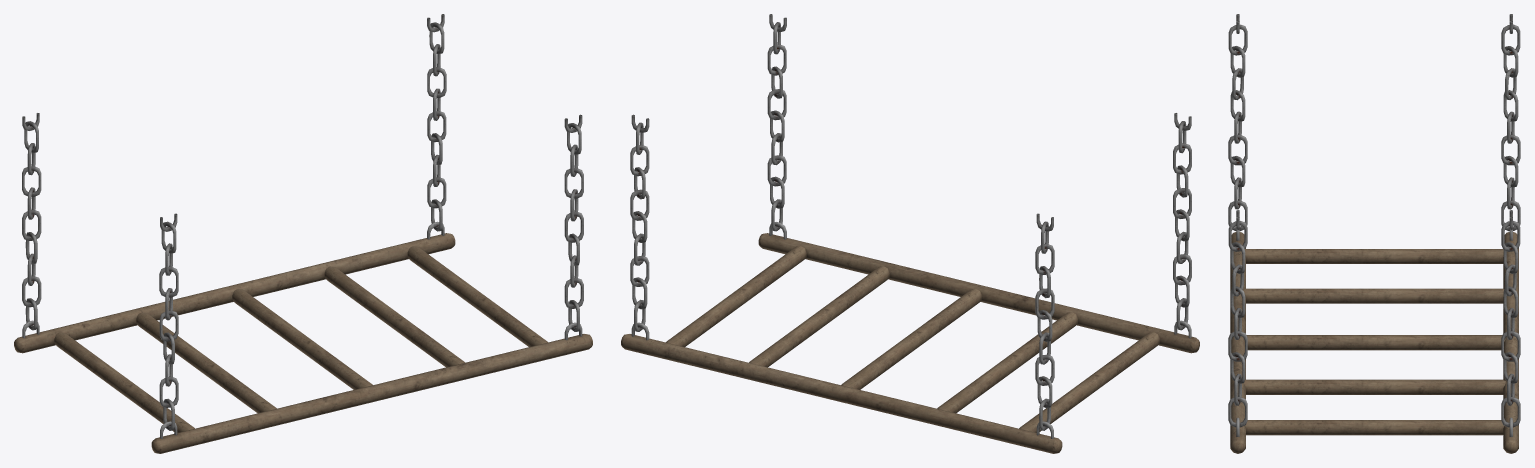
File: FoodRack.fbx
3 renders of one model, left to right at view 1: azimuth 30°, elevation 25°; view 2: azimuth 150°, elevation 25°; view 3: azimuth 270°, elevation 25°, orthographic.
Parts seen in each view (by area): view 1: FoodrackMesh; view 2: FoodrackMesh; view 3: FoodrackMesh.
Part boxes in pixels (x1=…): FoodrackMesh: x1=14, y1=14, x2=592, y2=453; FoodrackMesh: x1=621, y1=14, x2=1199, y2=453; FoodrackMesh: x1=1228, y1=14, x2=1520, y2=453.
Bounding box in the file's own units: 158 × 81.3 × 92.22.
1 material, 1 textured.
